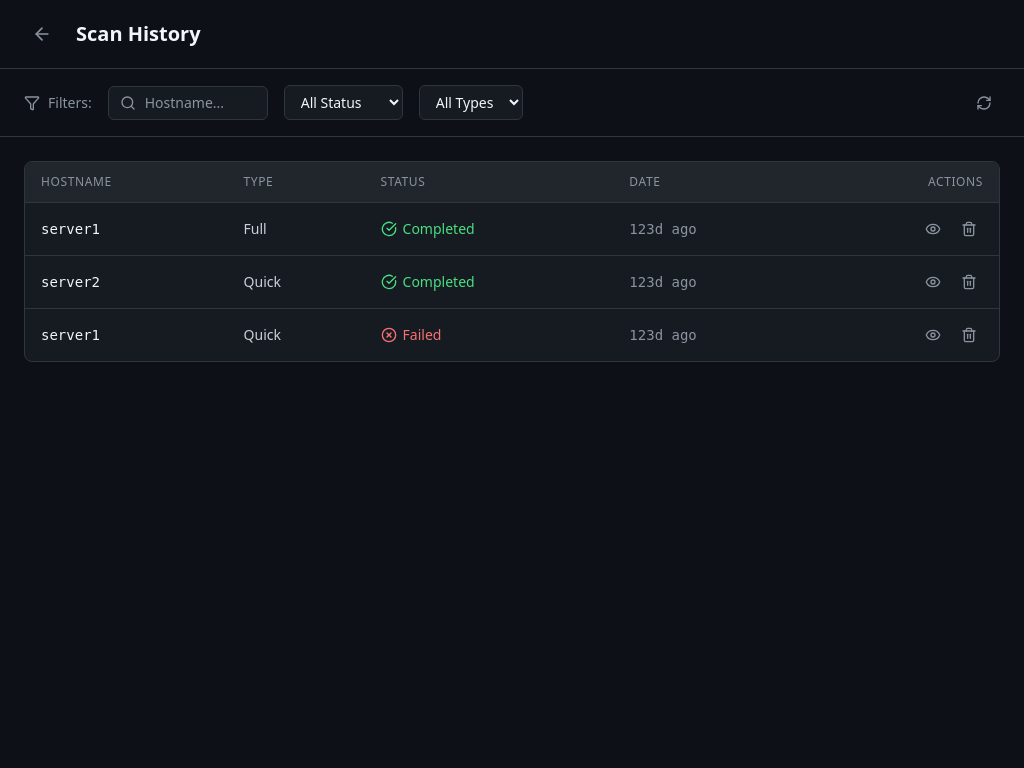
Test: ScanHistoryPage › Delete old scans (AC5) › shows delete confirmation modal when clicking delete
Click the button with test id "delete-button-1".
click(969, 229)  # box left=955, top=215, right=983, bottom=243
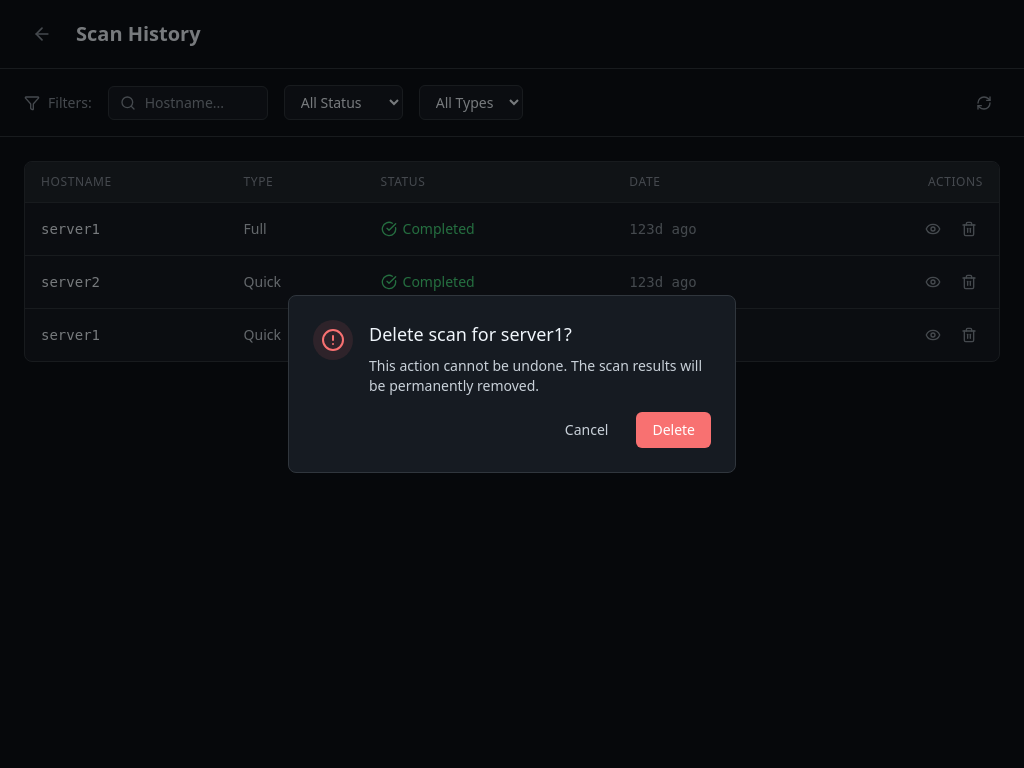
Result: the element with test id "delete-confirm-modal" is shown
Result: the heading "Delete scan for server1?" is shown at left=369, top=322, right=572, bottom=346
